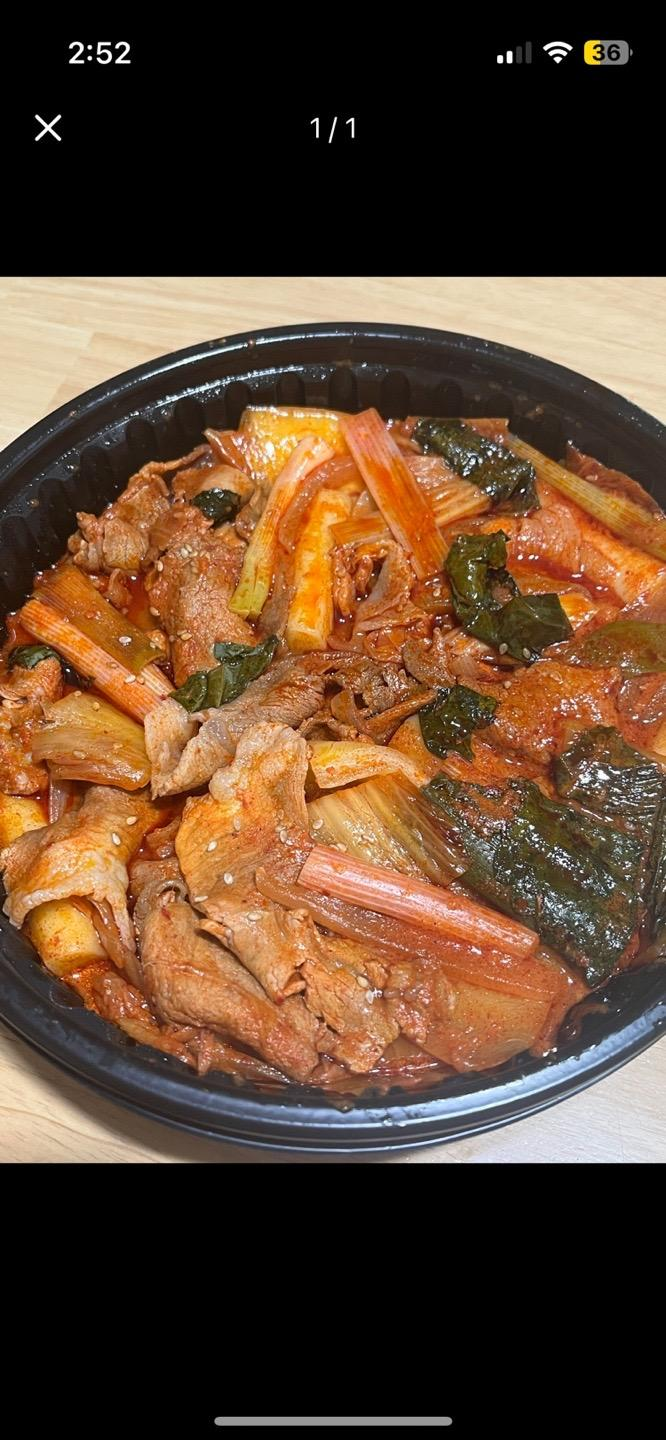Lunch Box: (0, 322, 665, 1152)
